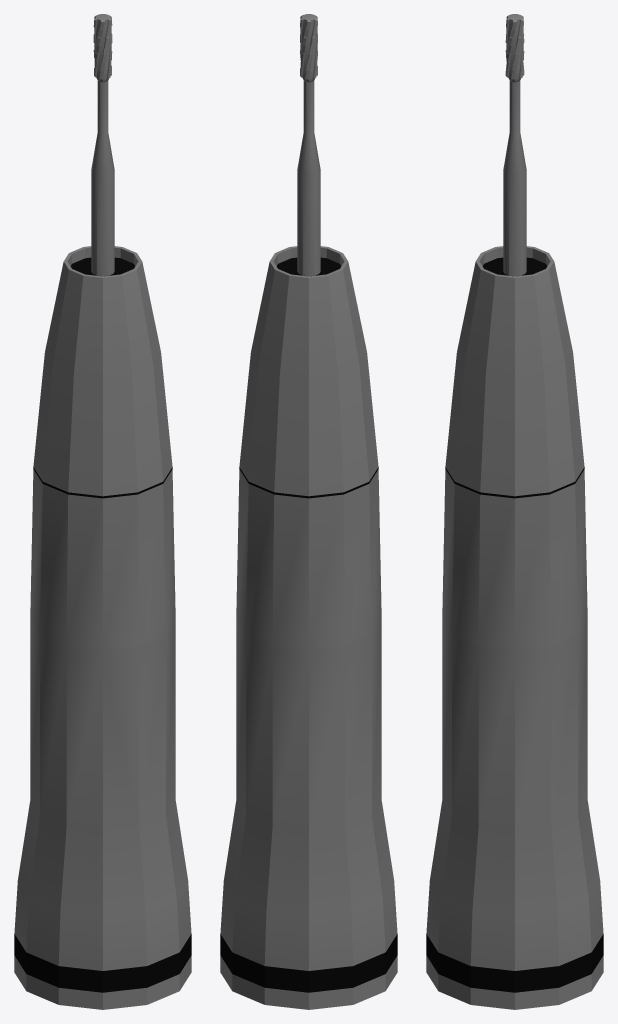
File: Fissure_Model.fbx
The picture shows the model from 3 angles, left to right: view 1: azimuth 30°, elevation 25°; view 2: azimuth 150°, elevation 25°; view 3: azimuth 270°, elevation 25°; orthographic projection.
Parts seen in each view (by area): view 1: pCylinder19, pCylinder16; view 2: pCylinder19, pCylinder16; view 3: pCylinder19, pCylinder16.
Part boxes in pixels (x1=…): pCylinder19: x1=14, y1=246, x2=191, y2=1009; pCylinder16: x1=91, y1=14, x2=114, y2=276; pCylinder19: x1=220, y1=246, x2=397, y2=1009; pCylinder16: x1=297, y1=14, x2=320, y2=276; pCylinder19: x1=426, y1=246, x2=603, y2=1009; pCylinder16: x1=503, y1=14, x2=526, y2=276.
Size of the model in its own units: 1.63 by 9.73 by 1.63.
